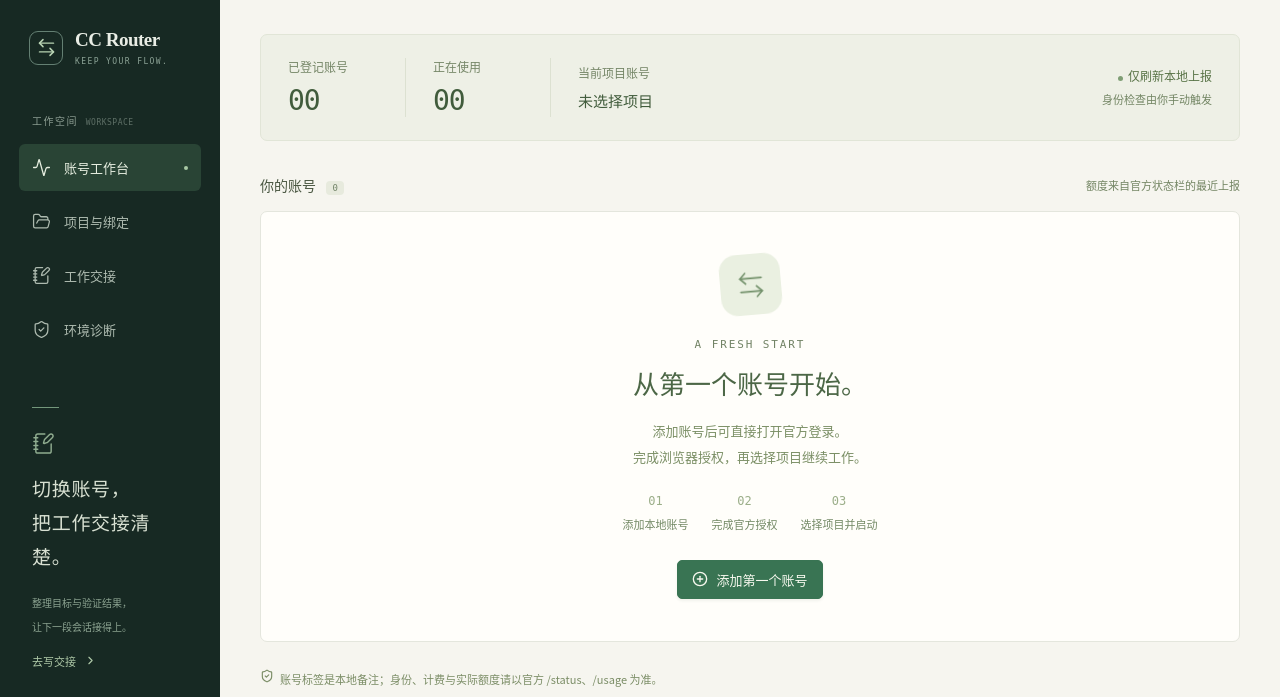
Test case: first login workflow › preserves the created account and explains a failed terminal launch
(page scrolled)
Click the button "添加第一个账号": (750, 579) [678,560,822,599]
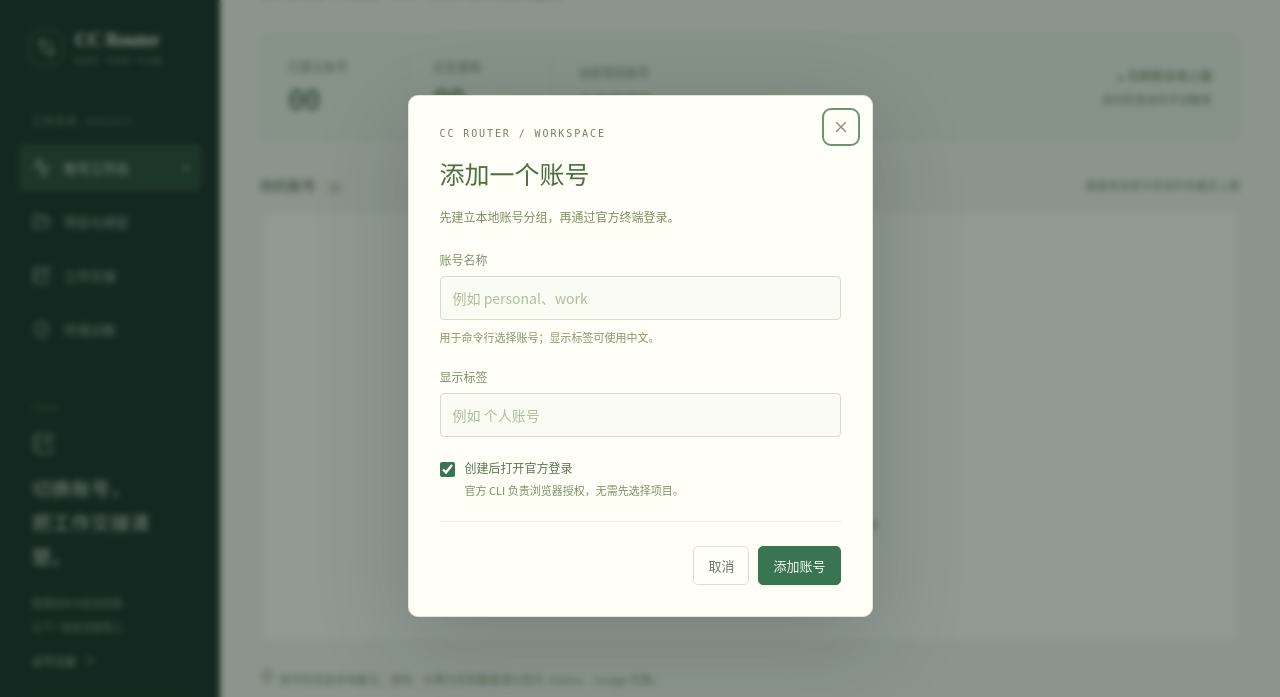
In the field labelled "账号名称": (640, 298) [440,276,840,320], type "work"
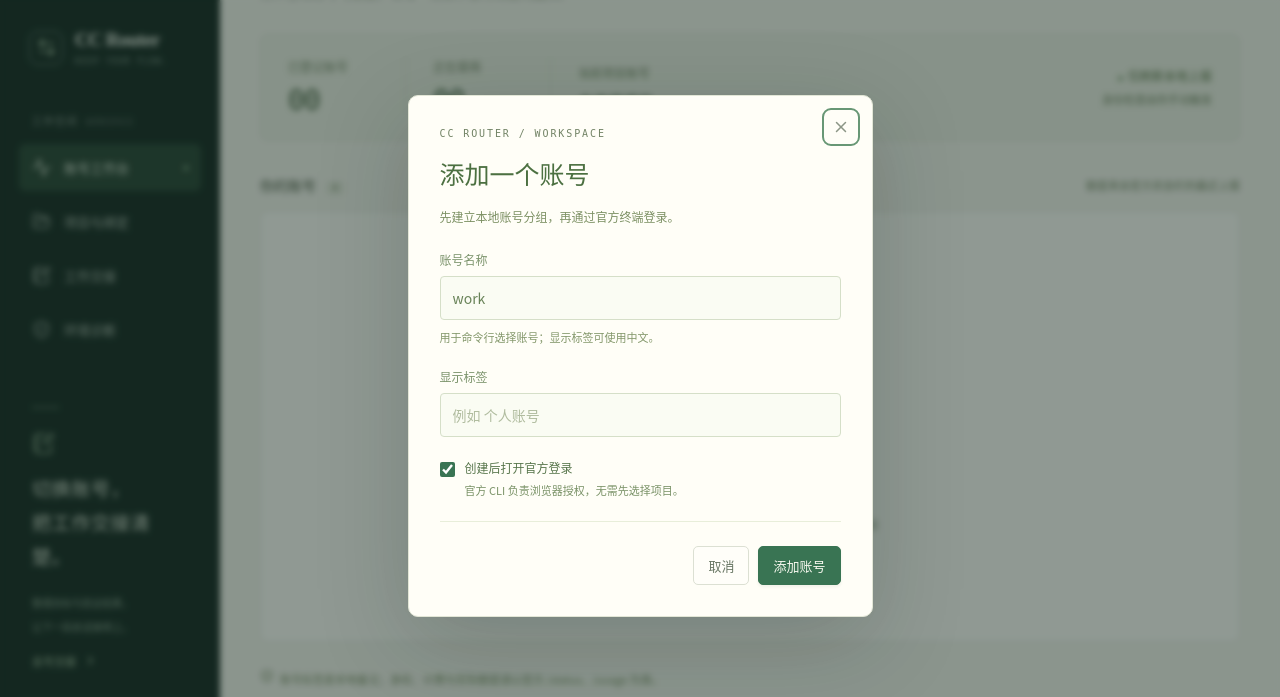
Click the button "添加账号": (800, 565) [758,546,840,585]
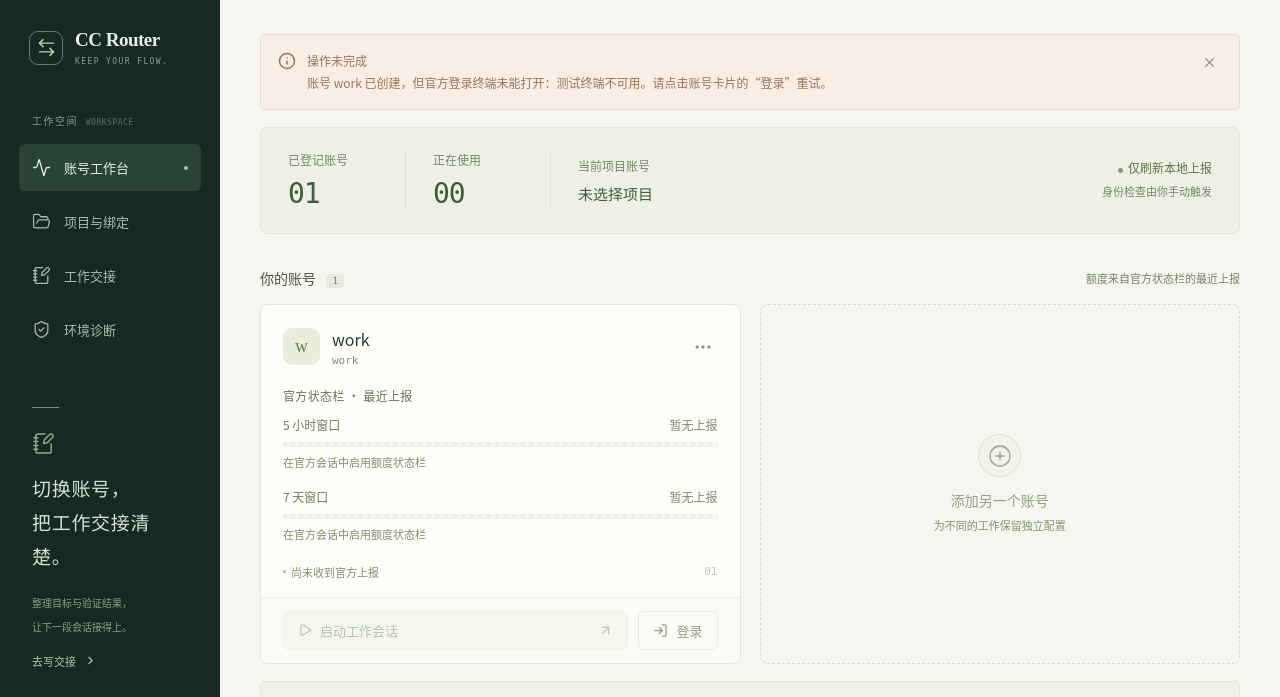
Check: the button "登录" is enabled, box [638,611,718,650]
Check: the dialog is gone
Check: the text "账号 work 已创建，但官方登录终端未能打开：测试终端不可用。请点击账号卡片的“登录”重试。" is shown, box [307,74,832,91]
